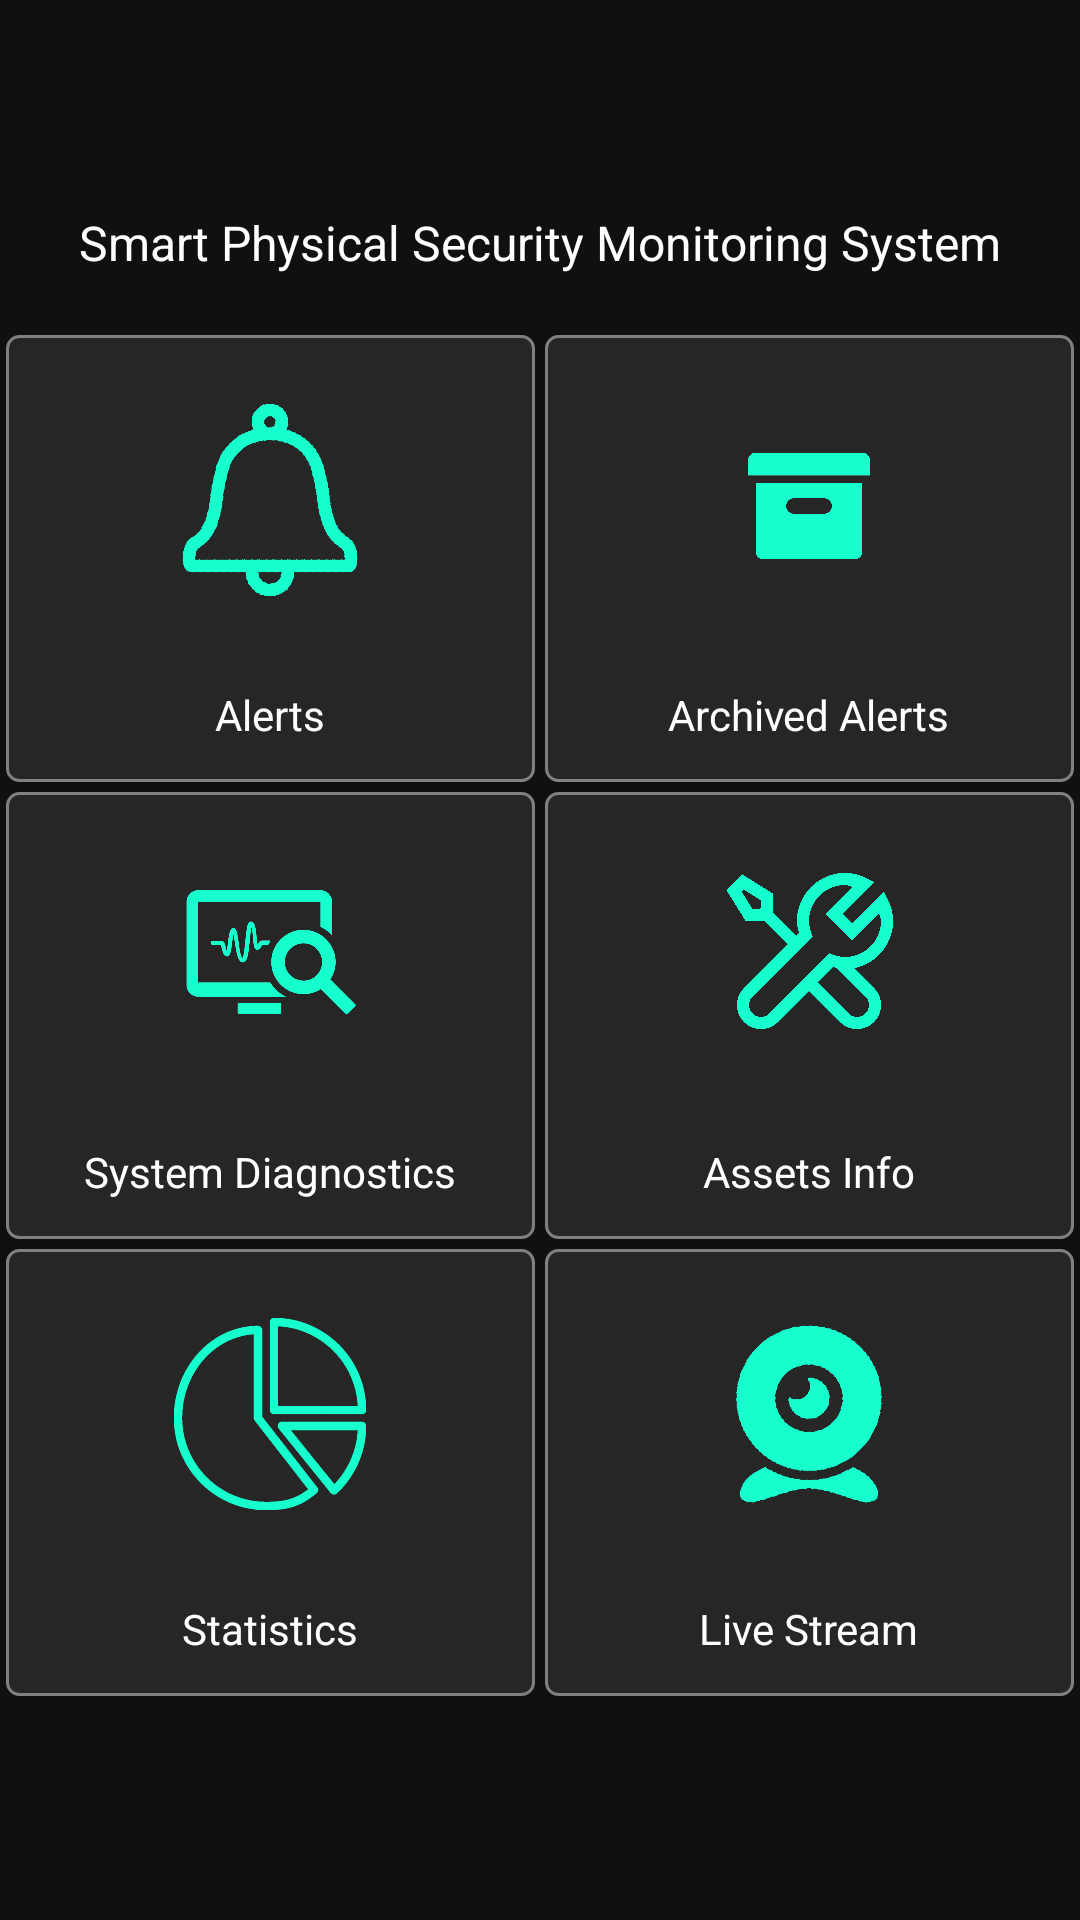

Locate icon controls on the screen. Image size 1080w x 1920h, boxes as {"left": x1, "top": y1, "right": x2, "bottom": y2}.
lastestarchive: {"left": 748, "top": 453, "right": 870, "bottom": 559}
lastestsysdiag: {"left": 186, "top": 890, "right": 356, "bottom": 1015}
lastestwebcam: {"left": 736, "top": 1325, "right": 882, "bottom": 1503}
latestpiechart: {"left": 174, "top": 1318, "right": 366, "bottom": 1510}
